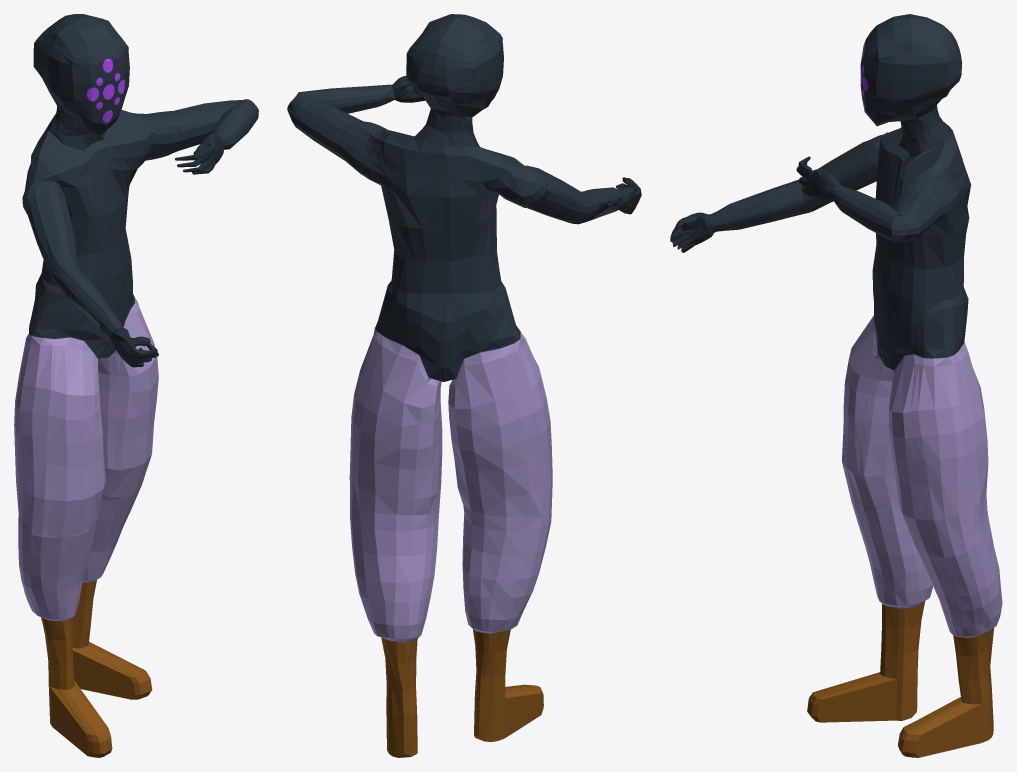
File: Oracle_Reload_000001.obj
The picture shows the model from 3 angles, left to right: view 1: azimuth 30°, elevation 25°; view 2: azimuth 150°, elevation 25°; view 3: azimuth 270°, elevation 25°; orthographic projection. The views are drawn at different scales.
Visible parts, largest first — view 1: Cube; view 2: Cube; view 3: Cube.
Boxes of the visible parts, x1,y1,x2,y2 form: Cube: (14, 14, 258, 757); Cube: (287, 14, 641, 757); Cube: (670, 14, 1002, 757).
Size of the model in its own units: 1.45 by 3.94 by 1.66.
